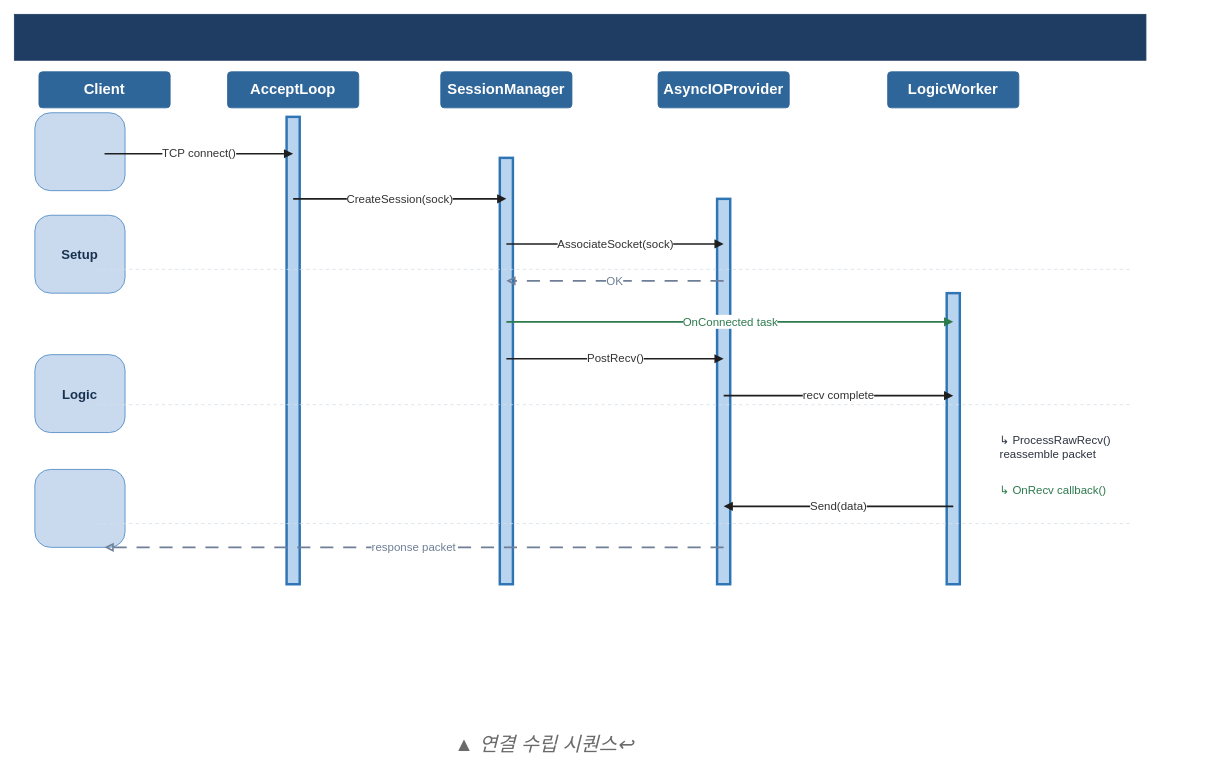
This 1210x777 diagram has some shape labels left out. The centre of each missing label's shape, as x and y in pixels:
"Accept" goes at point (79, 151).
"Connection Establishment & Packet Flow" goes at point (580, 37).
"Send" goes at point (79, 508).
